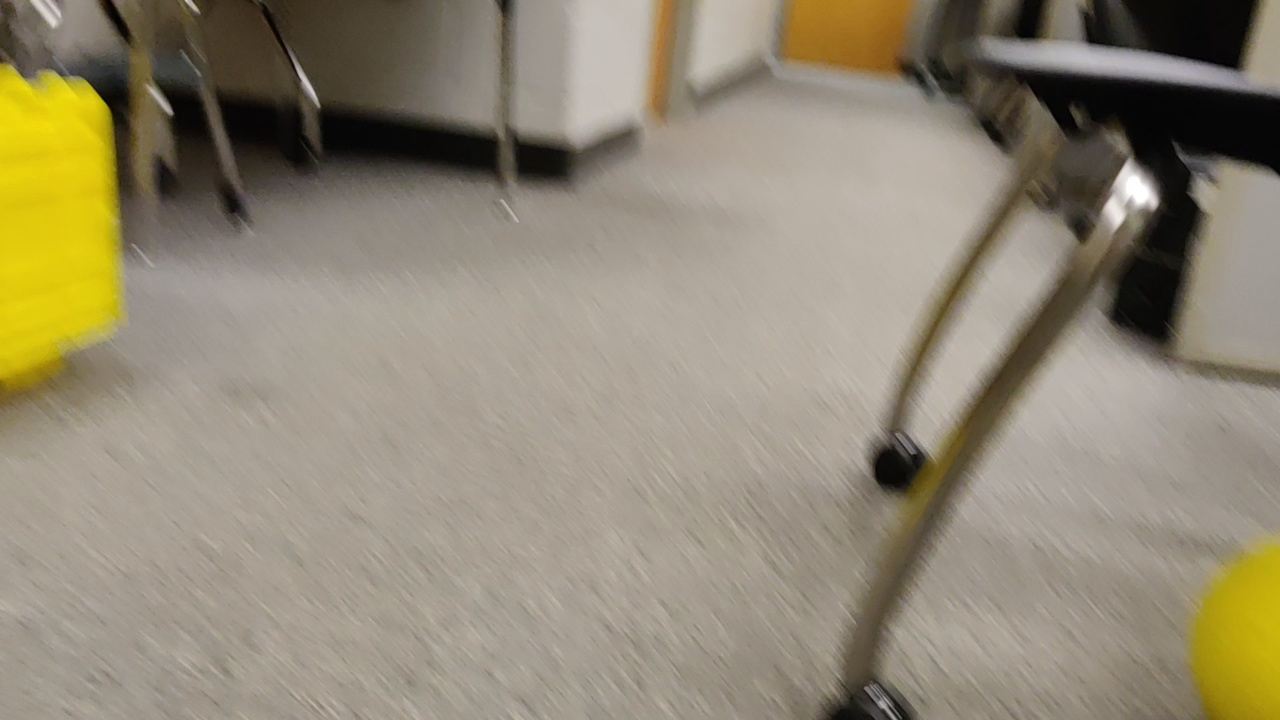Ball: (1188, 531, 1280, 719)
